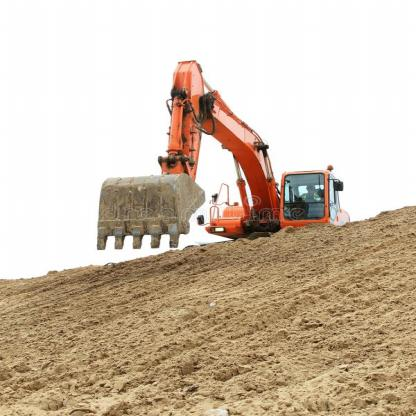excavator: (86, 49, 356, 248)
